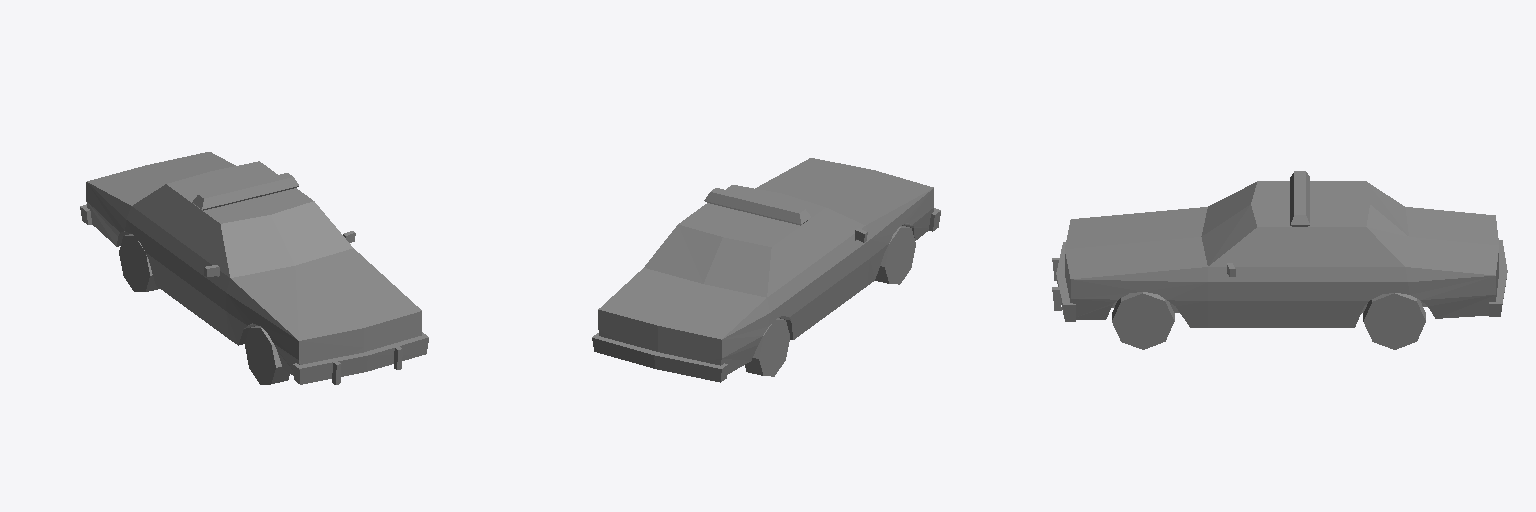
The model's file is Car5_Police.obj.
3 renders of one model, left to right at view 1: azimuth 30°, elevation 25°; view 2: azimuth 150°, elevation 25°; view 3: azimuth 270°, elevation 25°, orthographic.
Visible parts, largest first — view 1: Car5_Police; view 2: Car5_Police; view 3: Car5_Police.
Part boxes in pixels (x1,y1,x2,y2): Car5_Police: (80, 152, 428, 384); Car5_Police: (592, 158, 940, 382); Car5_Police: (1052, 171, 1507, 349).
Size of the model in its own units: 2.78 by 2.24 by 7.37.